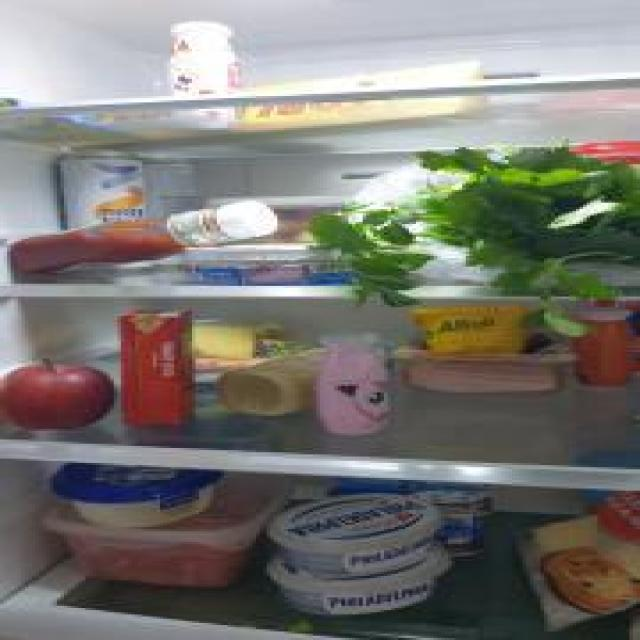apple: (0, 356, 117, 428)
cheese: (270, 496, 448, 569), (54, 461, 220, 527), (265, 556, 446, 613)
grated_cheese: (512, 486, 640, 630)
tomato_sauce: (121, 310, 195, 426)
